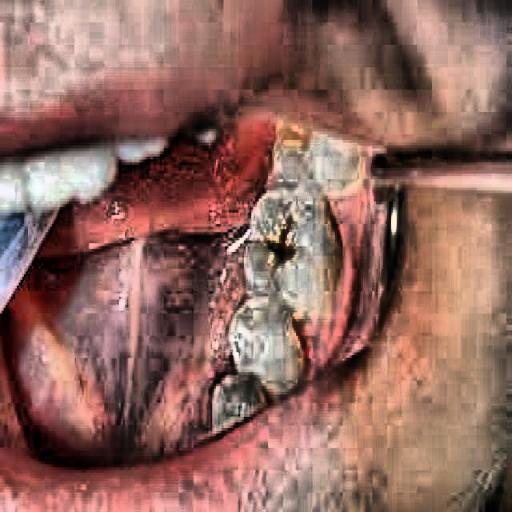Caries: (242, 171, 342, 294)
